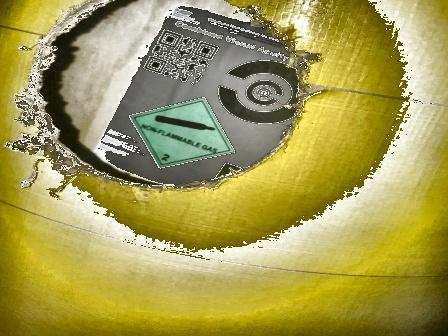non-flammable-gas: (130, 99, 245, 170)
